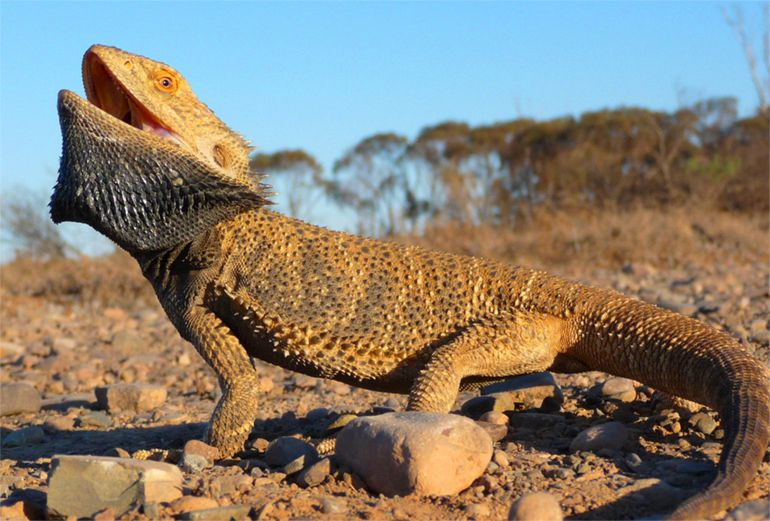bearded: (51, 39, 768, 521)
